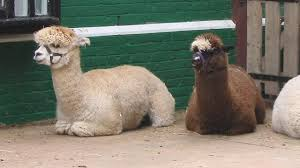alpaca: (31, 26, 176, 137), (184, 31, 267, 136)
